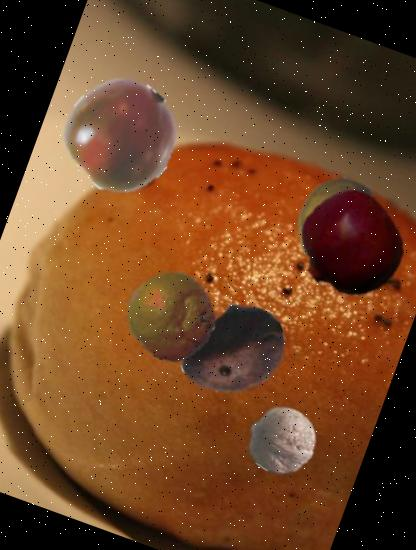Chestnut: (161, 279, 302, 419)
Lemon: (276, 163, 402, 290)
Mandarine: (114, 260, 228, 374)
Pomegranate: (281, 177, 416, 314)
Tomato: (50, 64, 192, 207)
Walnut: (237, 396, 327, 486)
